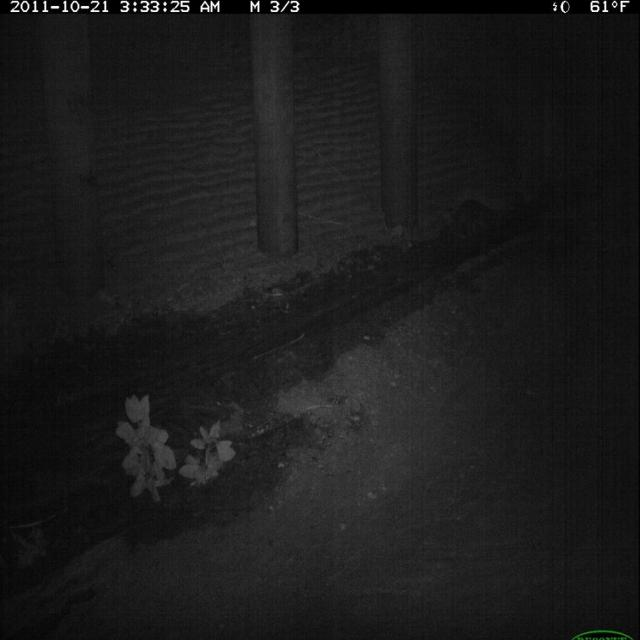raccoon: (451, 197, 497, 244)
